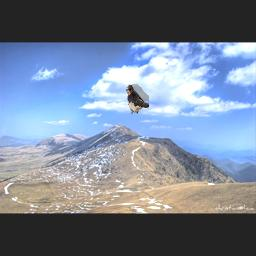Swallow: (126, 84, 149, 114)
